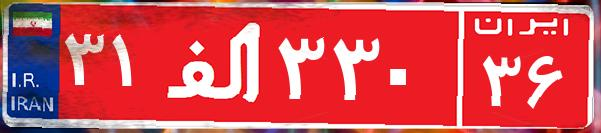0: (385, 28, 445, 110)
1: (110, 28, 158, 105)
3: (273, 28, 330, 110), (330, 28, 385, 110), (57, 26, 110, 107), (475, 38, 525, 113)
6: (525, 38, 570, 115)
الف: (158, 15, 273, 115)
